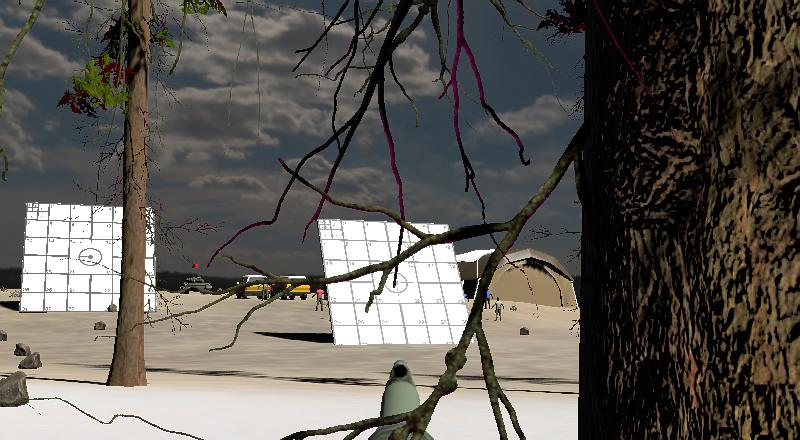Human: (493, 295, 506, 323), (480, 285, 493, 309), (316, 285, 328, 311), (313, 287, 324, 312)
Tank: (178, 274, 214, 294)
car: (235, 274, 273, 299), (276, 275, 311, 300)
